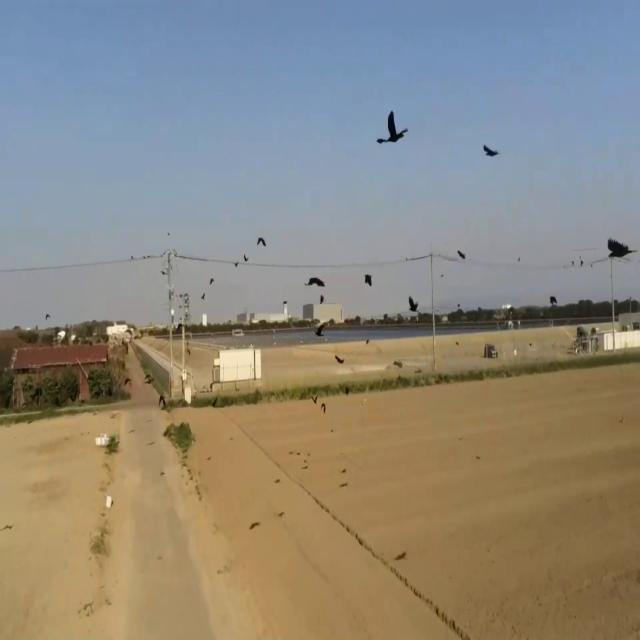bird: (385, 102, 408, 152), (607, 229, 632, 265), (307, 268, 325, 300), (483, 138, 499, 164), (408, 291, 418, 315), (456, 244, 466, 264), (257, 230, 266, 251), (376, 132, 385, 150), (365, 268, 372, 290), (549, 290, 557, 309), (184, 288, 189, 304), (200, 288, 205, 302), (45, 309, 50, 322), (209, 274, 214, 287), (244, 250, 248, 264), (234, 259, 238, 270)
